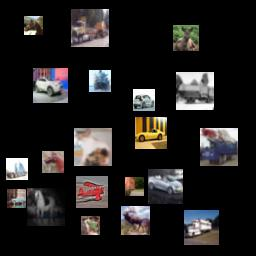airplane: (76, 176, 108, 208)
automobile: (148, 169, 183, 204), (33, 68, 68, 103), (135, 117, 167, 149), (133, 89, 155, 111), (7, 189, 26, 208)
cat: (74, 128, 112, 166)
deer: (121, 206, 150, 235), (173, 25, 199, 51)
frog: (81, 216, 100, 235)
ship: (89, 70, 111, 92)
truck: (71, 9, 109, 47), (200, 128, 238, 166), (176, 72, 214, 110), (184, 210, 219, 245), (6, 158, 28, 180), (125, 177, 144, 196)
